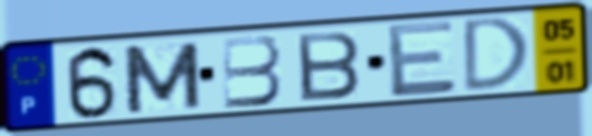6: (63, 43, 121, 121)
B: (293, 28, 364, 103), (219, 32, 286, 111)
D: (460, 14, 533, 96)
E: (383, 17, 460, 101)
M: (119, 39, 205, 116)
